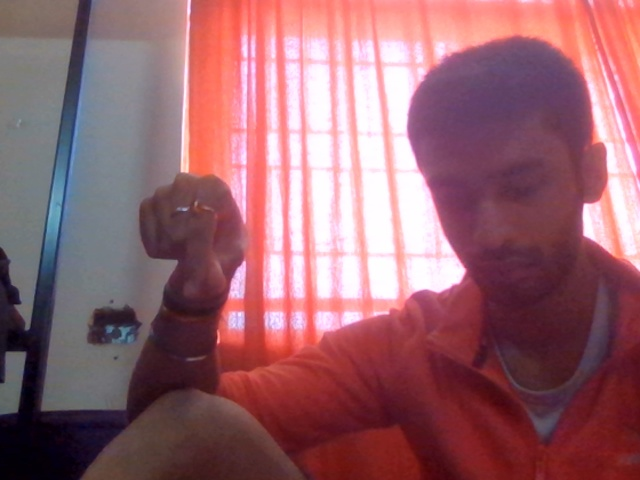Q: (119, 158, 275, 342)
